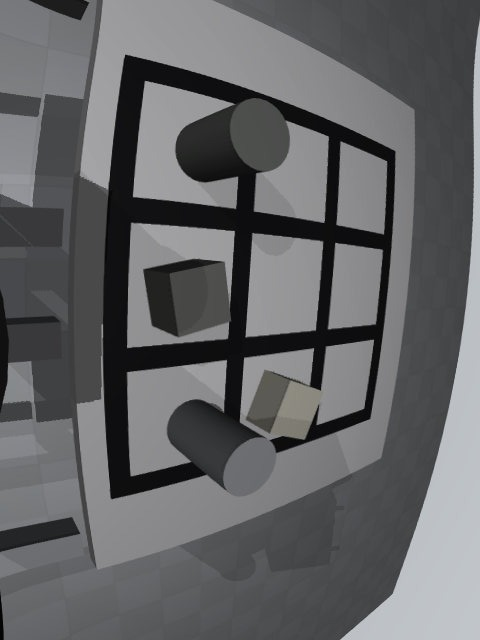can: (167, 399, 277, 497)
cube: (143, 259, 231, 337)
cylinder: (175, 98, 290, 182)
foam: (246, 370, 323, 440)
